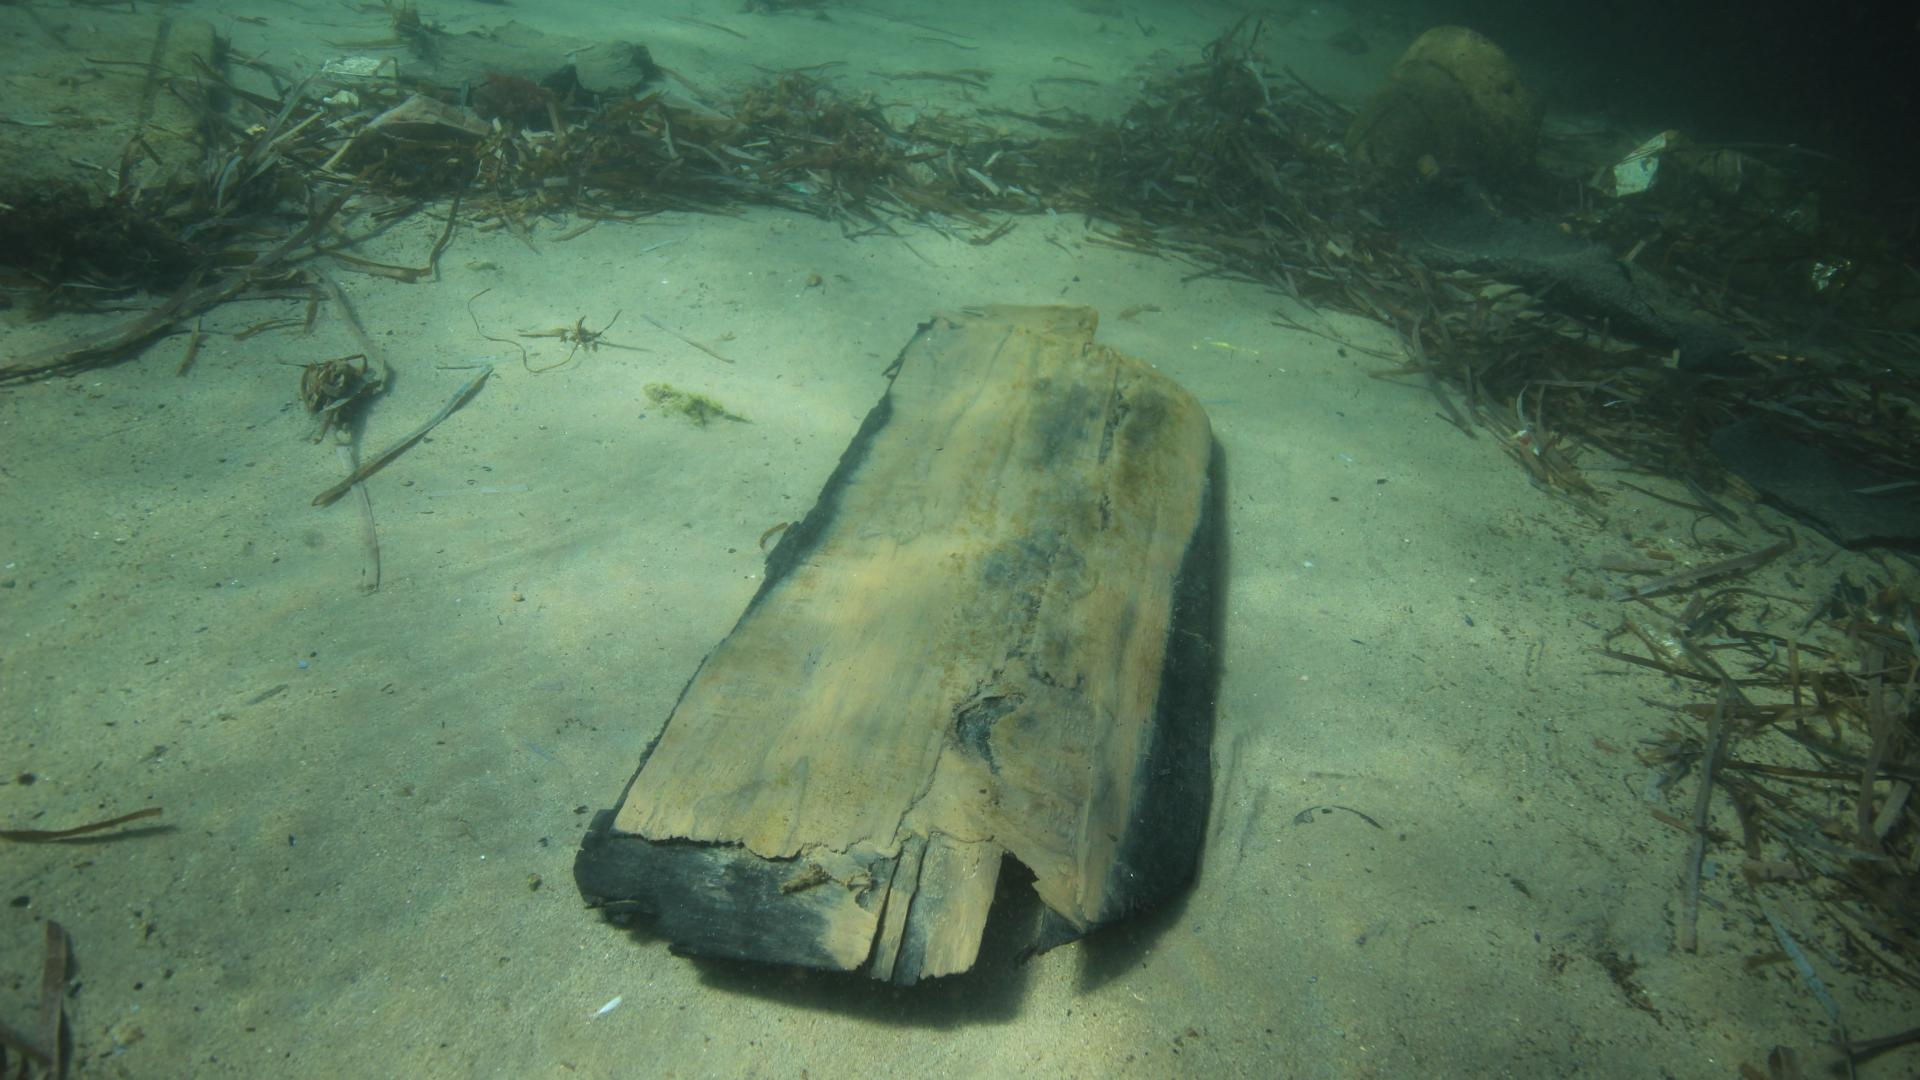wood: (571, 301, 1212, 982)
